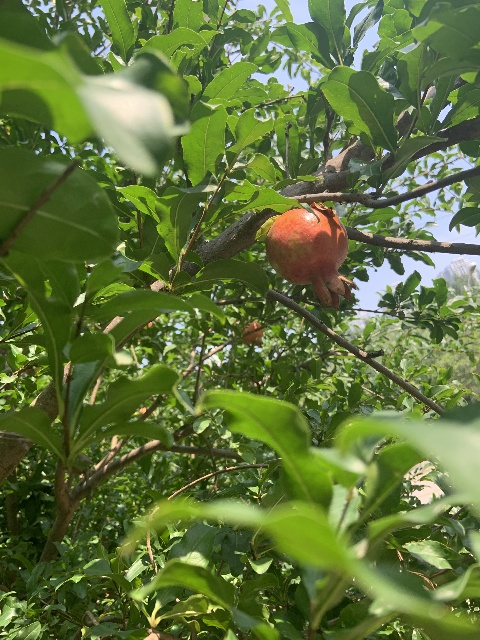ripe: (265, 207, 356, 309), (241, 321, 263, 348)
